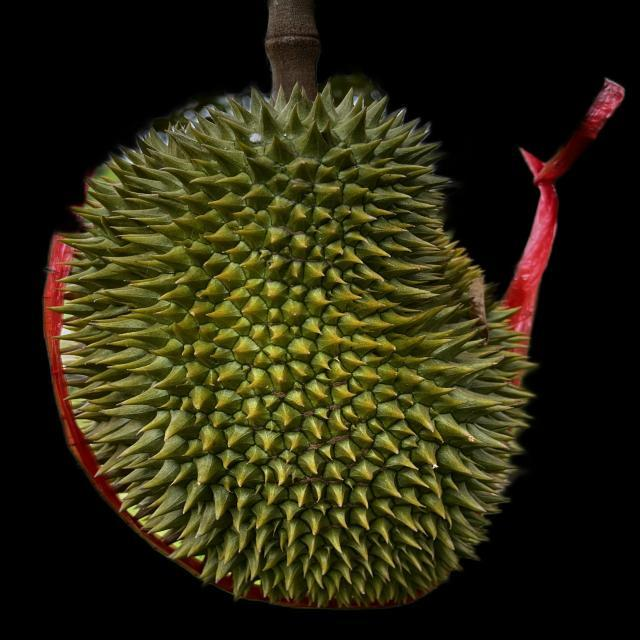immature: (61, 85, 529, 604)
